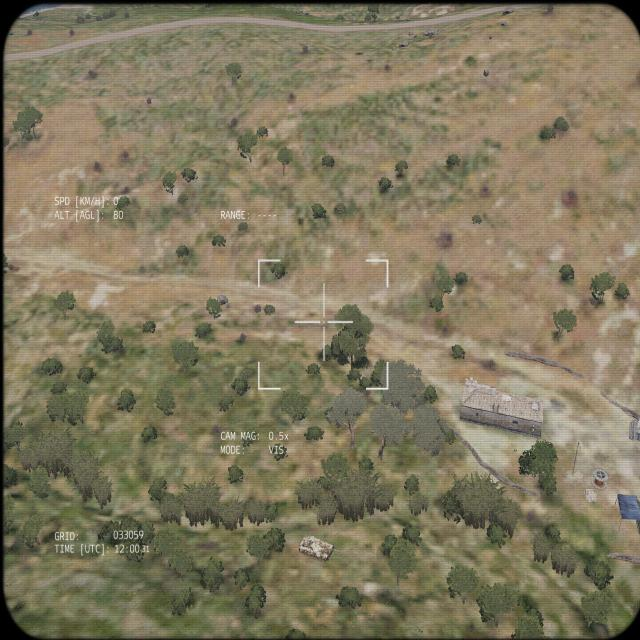tank: (296, 533, 346, 562)
